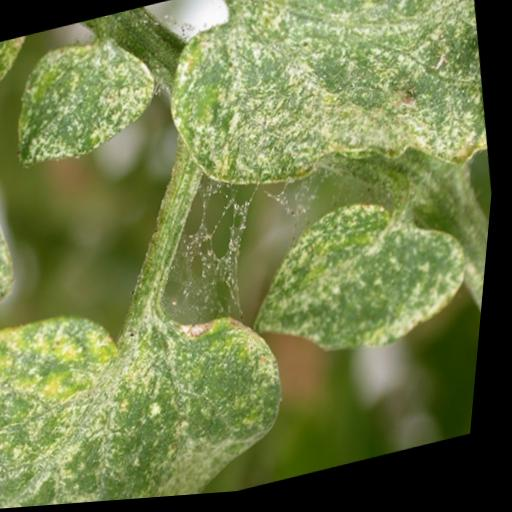Spider Mites: (140, 0, 505, 243), (0, 262, 317, 511), (238, 181, 489, 387), (0, 20, 173, 175)
